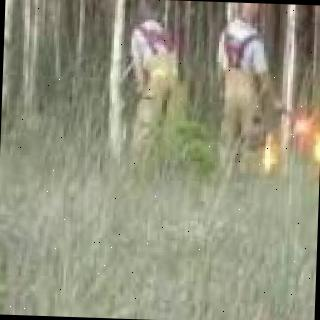fire: (260, 134, 282, 172), (289, 112, 313, 142), (318, 59, 320, 179)
